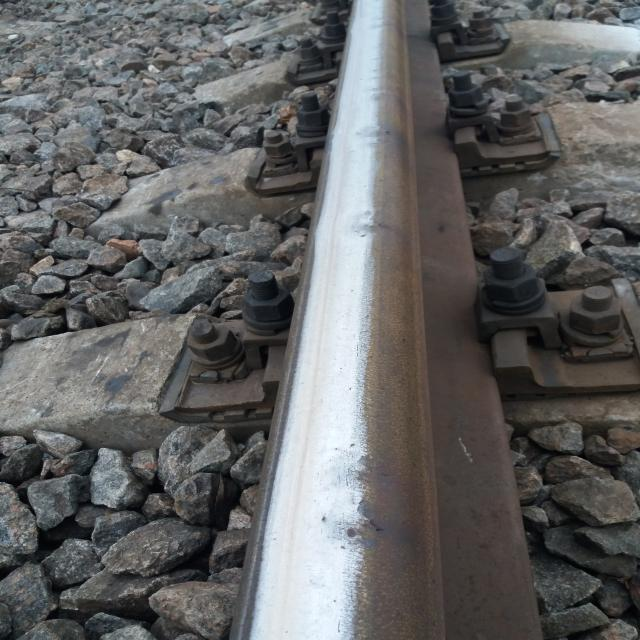10: (351, 221, 375, 239)
squats_high: (319, 515, 357, 551), (359, 496, 385, 538), (335, 453, 366, 488), (348, 441, 358, 449)
